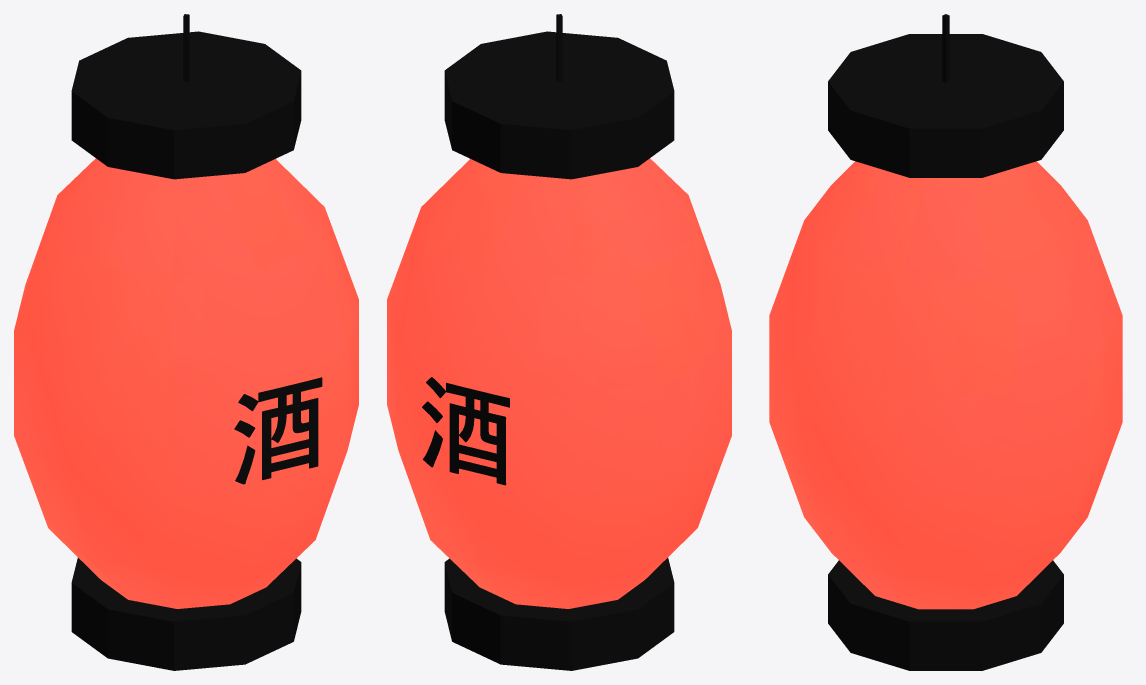
The model's file is lantern_red.glb.
3 renders of one model, left to right at view 1: azimuth 30°, elevation 25°; view 2: azimuth 150°, elevation 25°; view 3: azimuth 270°, elevation 25°, orthographic.
Visible parts, largest first — view 1: lantern_red; view 2: lantern_red; view 3: lantern_red.
Boxes of the visible parts, bbox=[...] form: lantern_red: bbox=[14, 14, 358, 670]; lantern_red: bbox=[387, 14, 731, 670]; lantern_red: bbox=[769, 14, 1122, 670].
Size of the model in its own units: 0.3709 by 0.74 by 0.41.
2 materials, 2 textured.
